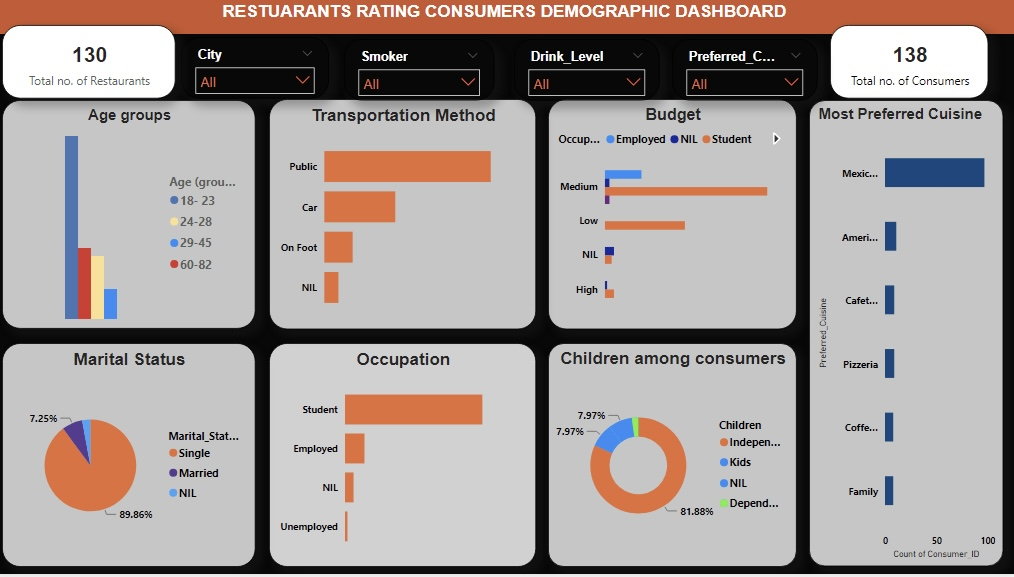

Layout of this report page (visuals, bound fields, positions):
{"tool":"powerbi","page":{"name":"Page 1","canvas":[1280,720],"ordinal":0},"visuals":[{"type":"clusteredColumnChart","title":"Age groups","fields":{"Series":["consumers.Age (groups)"],"Y":["Sum(consumers.Age)"]},"box":[10.8,127.7,316.9,286.2],"z":0},{"type":"pieChart","title":" Marital Status ","fields":{"Y":["CountNonNull(consumers.Marital_Status)"],"Category":["consumers.Marital_Status"]},"box":[10.8,430.8,316.9,280],"z":1000},{"type":"clusteredBarChart","title":" Occupation ","fields":{"Category":["consumers.Occupation"],"Y":["CountNonNull(consumers.Occupation)"]},"box":[344.6,430.8,333.8,280],"z":2000},{"type":"clusteredBarChart","title":"Budget ","fields":{"Category":["consumers.Budget"],"Y":["CountNonNull(consumers.Budget)"],"Series":["consumers.Occupation"]},"box":[693.8,126.2,310.8,287.7],"z":3000},{"type":"donutChart","title":" Children among consumers","fields":{"Y":["CountNonNull(consumers.Children)"],"Category":["consumers.Children"]},"box":[693.8,430.8,310.8,280],"z":4000},{"type":"barChart","title":" Transportation Method ","fields":{"Y":["CountNonNull(consumers.Transportation_Method)"],"Category":["consumers.Transportation_Method"]},"box":[344.6,126.2,333.8,287.7],"z":5000},{"type":"textbox","box":[0,0,1278.5,44.6],"z":6000},{"type":"slicer","fields":{"Values":["consumers.City"]},"box":[235.4,49.2,184.6,76.9],"z":7000},{"type":"card","fields":{"Values":["Count(consumers.Consumer_ID)"]},"box":[1046.2,33.8,198.5,92.3],"z":8000},{"type":"card","fields":{"Values":["CountNonNull(Restuarants.Restaurant_ID)"]},"box":[10.8,33.8,216.9,92.3],"z":9000},{"type":"slicer","fields":{"Values":["consumers.Smoker"]},"box":[438.5,50.8,187.7,76.9],"z":10000},{"type":"slicer","fields":{"Values":["consumers.Drink_Level"]},"box":[650.8,50.8,181.5,76.9],"z":11000},{"type":"clusteredBarChart","title":"Most Preferred Cuisine","fields":{"Category":["customer_preferences.Preferred_Cuisine"],"Y":["CountNonNull(customer_preferences.Consumer_ID)"]},"box":[1020,127.7,243.1,583.1],"z":12000},{"type":"slicer","fields":{"Values":["customer_preferences.Preferred_Cuisine"]},"box":[849.2,50.8,181.5,76.9],"z":13000}]}

Visuals, with their boxes in screenshot pixels (x1, y1, x2, y2), scaled from the page's 1280x720 canvas onto the 1014x577 screenshot:
"Age groups" clusteredColumnChart: l=9, t=102, r=260, b=332
" Marital Status " pieChart: l=9, t=345, r=260, b=570
" Occupation " clusteredBarChart: l=273, t=345, r=537, b=570
"Budget " clusteredBarChart: l=550, t=101, r=796, b=332
" Children among consumers" donutChart: l=550, t=345, r=796, b=570
" Transportation Method " barChart: l=273, t=101, r=537, b=332
textbox: l=0, t=0, r=1013, b=36
slicer - consumers.City: l=186, t=39, r=333, b=101
card - Count(consumers.Consumer_ID): l=829, t=27, r=986, b=101
card - CountNonNull(Restuarants.Restaurant_ID): l=9, t=27, r=180, b=101
slicer - consumers.Smoker: l=347, t=41, r=496, b=102
slicer - consumers.Drink_Level: l=516, t=41, r=659, b=102
"Most Preferred Cuisine" clusteredBarChart: l=808, t=102, r=1001, b=570
slicer - customer_preferences.Preferred_Cuisine: l=673, t=41, r=817, b=102
